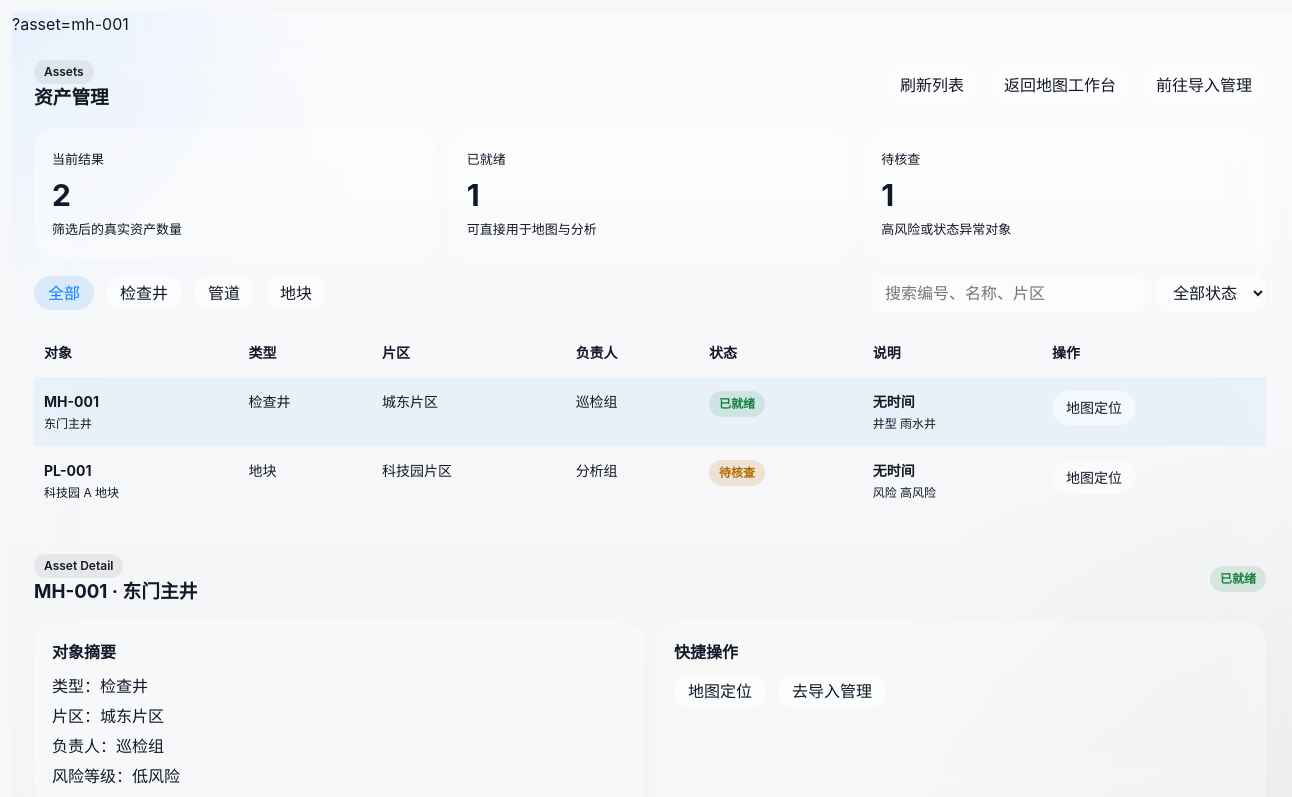
it: admin console smoke tests › renders asset management with real-data mapping and persists filters to url
Check: the text "MH-001" is shown, box [44, 391, 99, 412]
Click the button "地块" at (296, 293), box [266, 276, 326, 310]
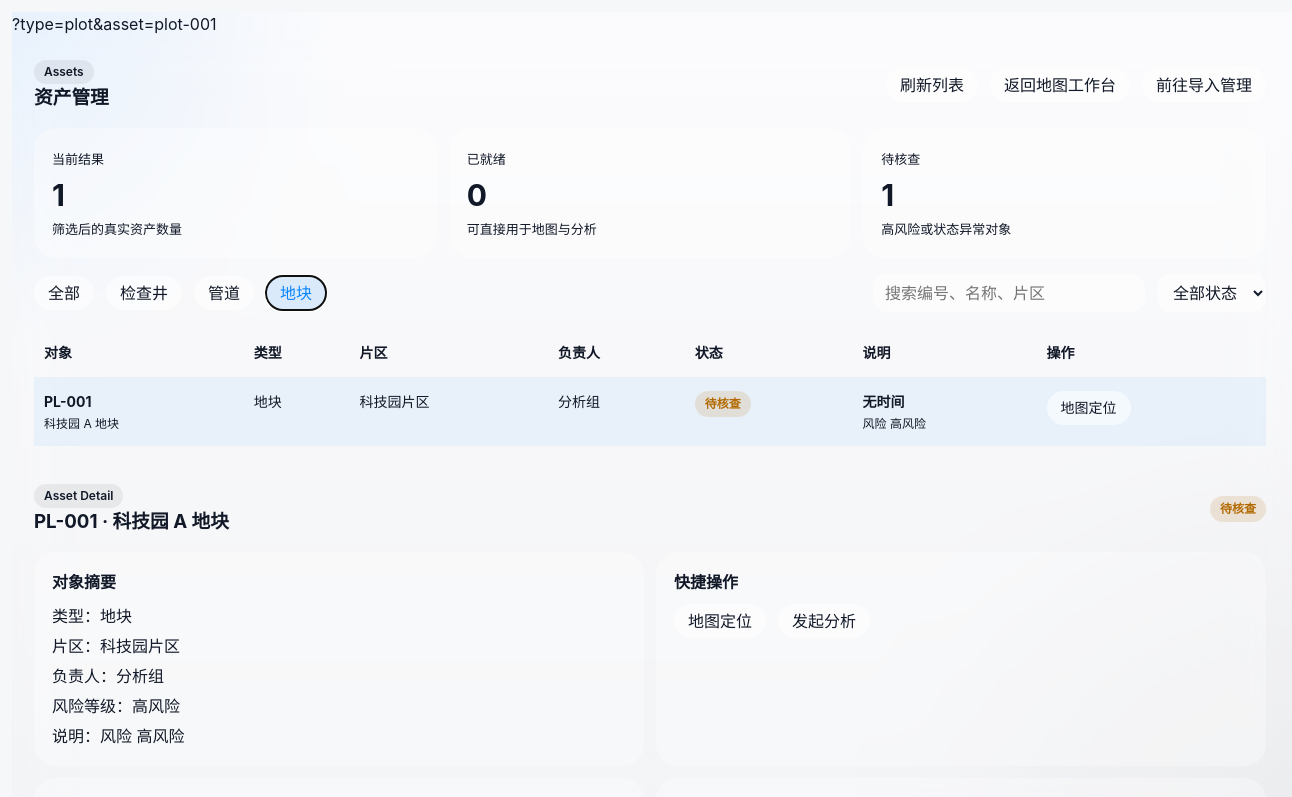
Check: the text with test id "location-search" shows "type=plot", box [12, 14, 216, 34]
Check: the text with test id "location-search" shows "asset=plot-001", box [12, 14, 216, 34]
Check: the button "发起分析" is shown, box [778, 604, 870, 638]
